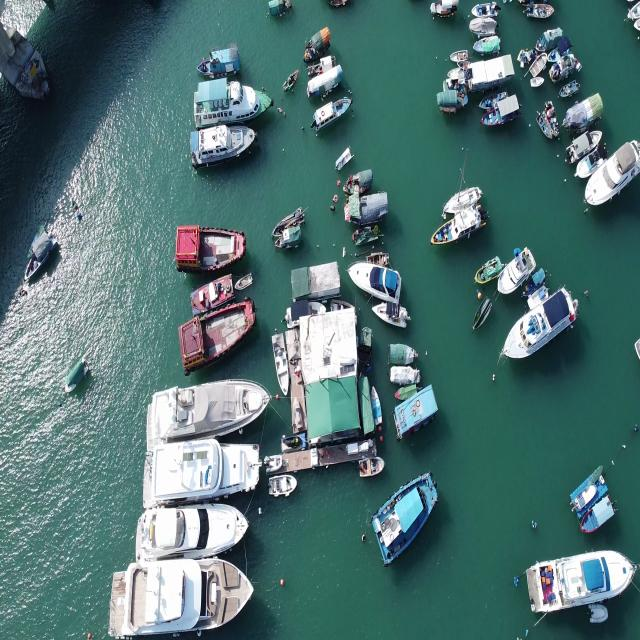ship: (109, 564, 248, 627), (526, 552, 633, 614), (370, 474, 440, 560), (134, 509, 252, 556), (143, 447, 258, 494), (501, 290, 577, 360), (142, 393, 266, 435), (174, 317, 270, 367), (172, 220, 256, 266), (584, 138, 638, 206), (193, 80, 270, 119), (347, 257, 402, 297), (22, 224, 58, 285), (190, 127, 254, 155), (59, 363, 95, 394), (272, 219, 302, 256), (477, 255, 501, 287), (371, 385, 387, 432), (386, 364, 423, 384), (268, 473, 298, 497), (477, 293, 495, 332), (353, 452, 386, 468), (331, 143, 355, 165), (446, 41, 469, 61), (284, 65, 298, 92), (527, 75, 547, 92)
